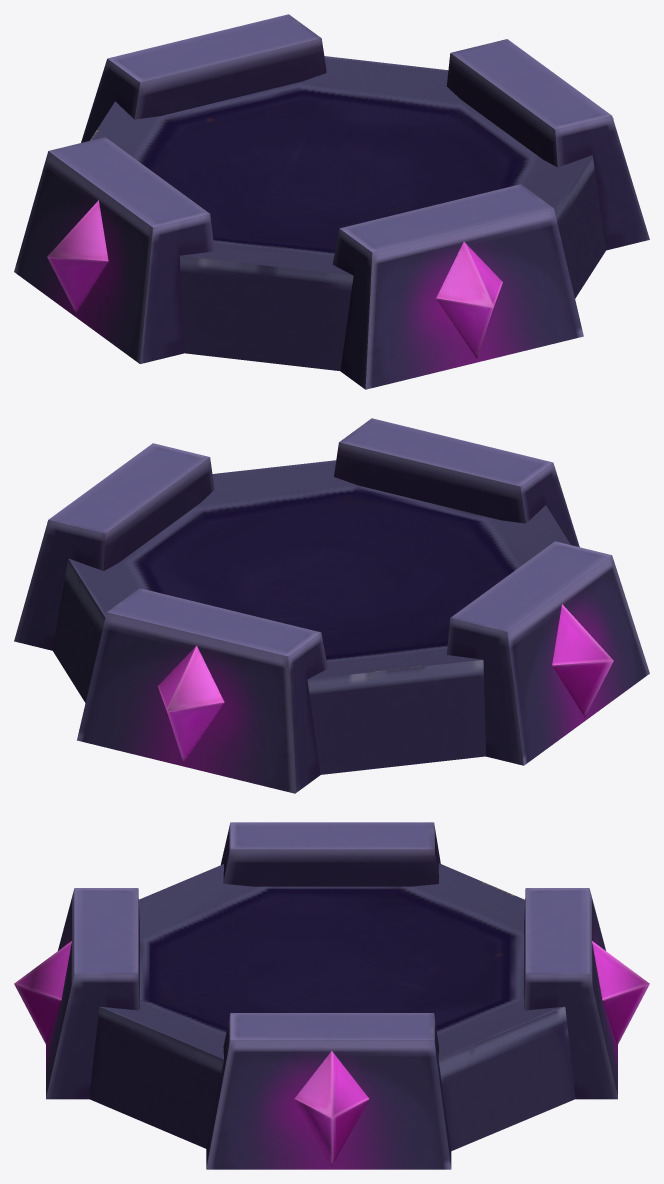
The model's file is com_toushita_Base.FBX.
3 views of the same model, one above another, from view 1: azimuth 30°, elevation 25°; view 2: azimuth 150°, elevation 25°; view 3: azimuth 270°, elevation 25° (orthographic). The views are drawn at different scales.
Parts seen in each view (by area): view 1: com_toushita; view 2: com_toushita; view 3: com_toushita.
Boxes of the visible parts, x1,y1,x2,y2 form: com_toushita: (14, 14, 649, 389); com_toushita: (14, 418, 649, 793); com_toushita: (14, 822, 649, 1169).
Size of the model in its own units: 411 by 84.1 by 411.
